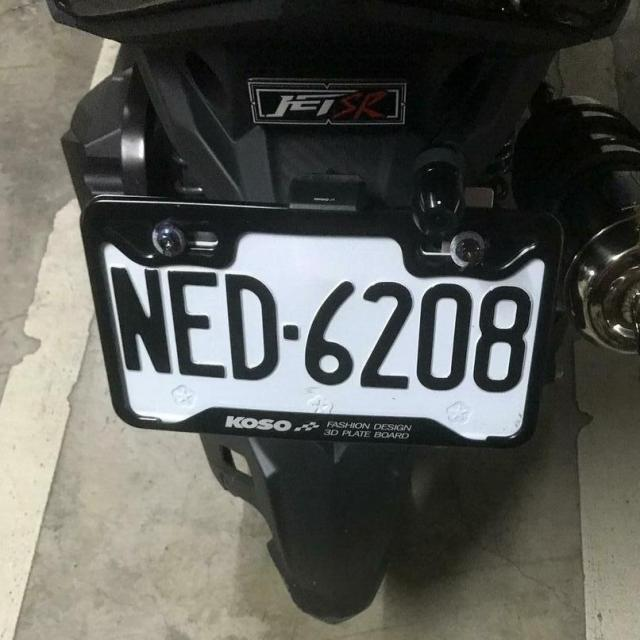W: (83, 211, 562, 462)
